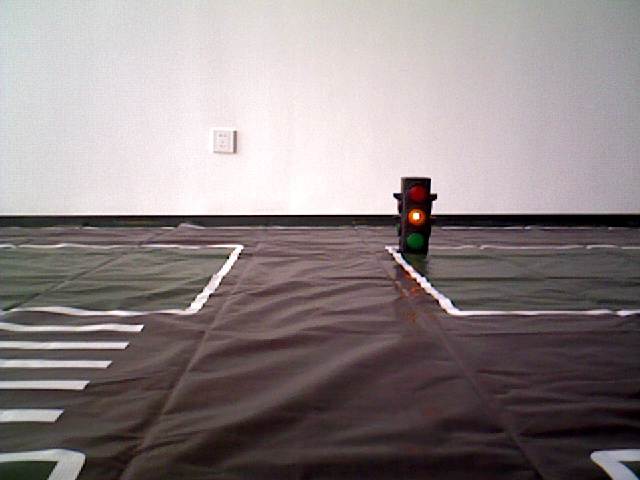yellow: (393, 173, 436, 259)
